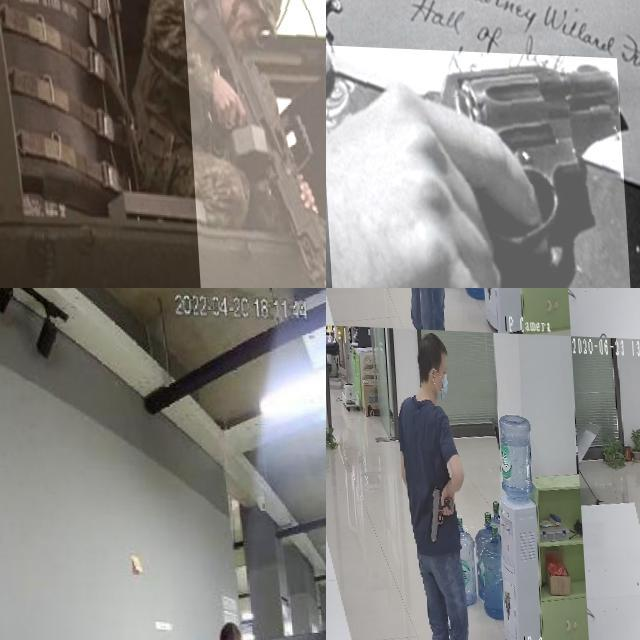gun-knife-thesis - v11 Yolov5 augmented: (326, 43, 626, 288), (181, 0, 326, 288), (420, 482, 447, 542), (326, 288, 359, 301)
